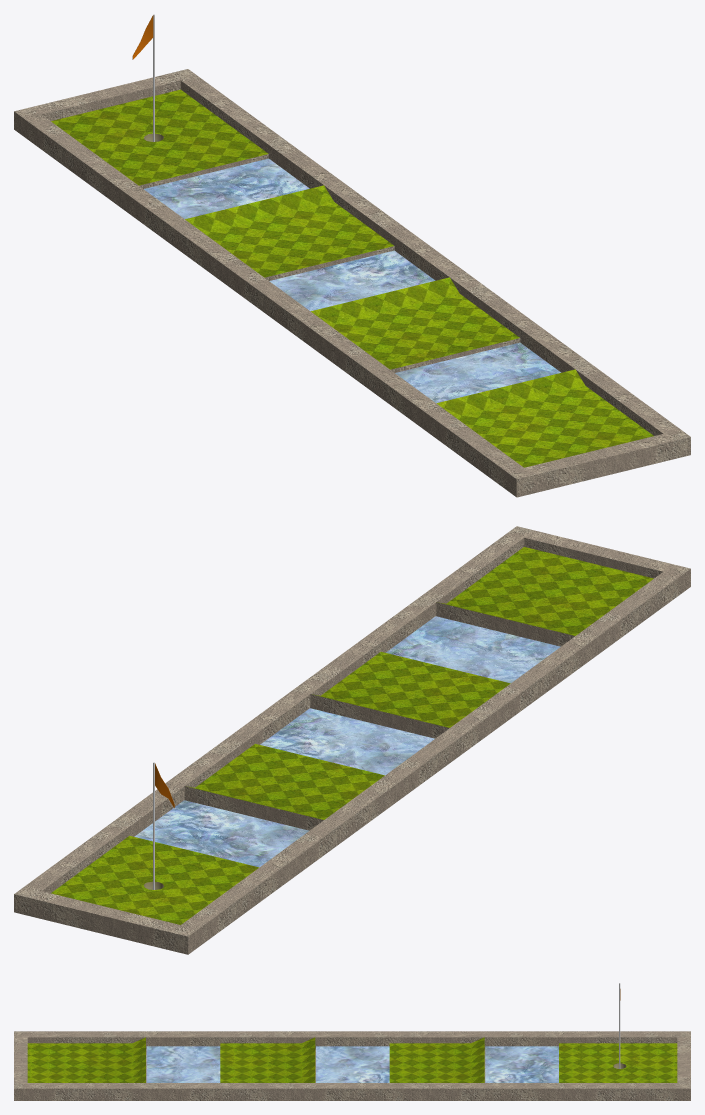
File: course4_hole12.fbx
3 renders of one model, top to bottom at view 1: azimuth 30°, elevation 25°; view 2: azimuth 150°, elevation 25°; view 3: azimuth 270°, elevation 25°, orthographic. The views are drawn at different scales.
Visible parts, largest first — view 1: course4_hole12_ground, course4_hole12_walls, course4_hole12_water; view 2: course4_hole12_walls, course4_hole12_ground, course4_hole12_water; view 3: course4_hole12_walls, course4_hole12_ground, course4_hole12_water.
Part boxes in pixels (left/top/right/bottom): course4_hole12_ground: left=51, top=89, right=653, bottom=467; course4_hole12_walls: left=14, top=69, right=690, bottom=497; course4_hole12_water: left=144, top=158, right=560, bottom=403; course4_hole12_walls: left=14, top=526, right=690, bottom=954; course4_hole12_ground: left=51, top=547, right=653, bottom=924; course4_hole12_water: left=134, top=616, right=560, bottom=867; course4_hole12_walls: left=14, top=1031, right=690, bottom=1100; course4_hole12_ground: left=27, top=1037, right=677, bottom=1082; course4_hole12_water: left=146, top=1046, right=558, bottom=1082.
Bounding box in the file's own units: 100 × 75.04 × 500.
